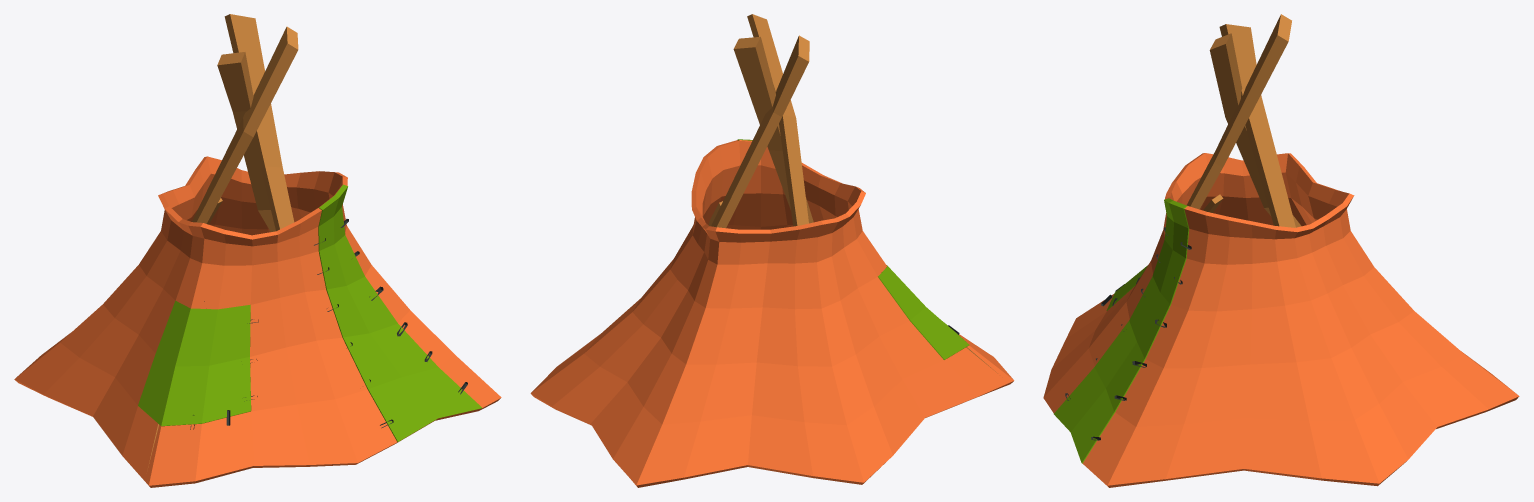
File: tent_1.fbx
3 views of the same model, side by side, from view 1: azimuth 30°, elevation 25°; view 2: azimuth 150°, elevation 25°; view 3: azimuth 270°, elevation 25° (orthographic). The views are drawn at different scales.
Parts seen in each view (by area): view 1: Tent_1; view 2: Tent_1; view 3: Tent_1.
Part boxes in pixels (bbox=[...]): Tent_1: bbox=[14, 14, 501, 487]; Tent_1: bbox=[530, 14, 1014, 487]; Tent_1: bbox=[1043, 14, 1519, 487].
Bounding box in the file's own units: 3.8 × 3.8 × 4.3.
